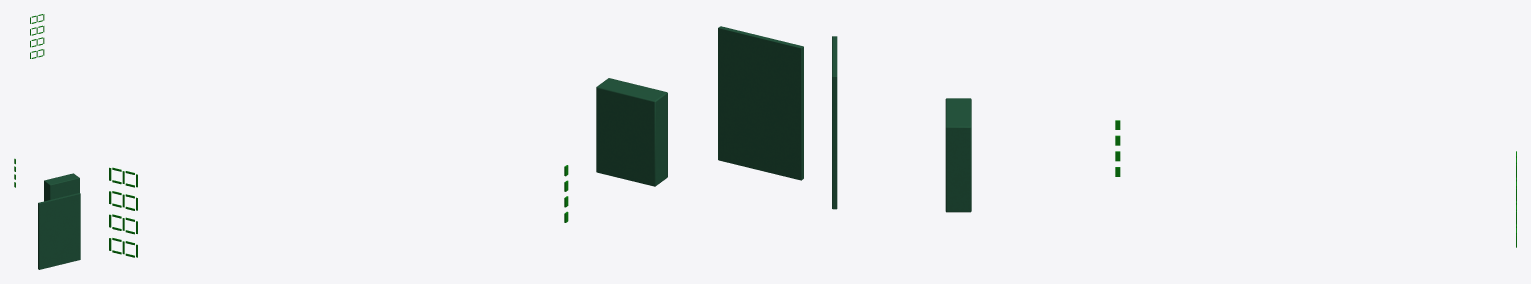
Rendered from base_link_pcb_green.obj.
3 views of the same model, side by side, from view 1: azimuth 30°, elevation 25°; view 2: azimuth 150°, elevation 25°; view 3: azimuth 270°, elevation 25° (orthographic). The views are drawn at different scales.
Visible parts, largest first — view 1: base_link__compute_board, base_link__converter; view 2: base_link__compute_board, base_link__converter; view 3: base_link__converter, base_link__compute_board.
Part boxes in pixels (x1=…): base_link__compute_board: x1=38, y1=193, x2=80, y2=269; base_link__converter: x1=44, y1=173, x2=79, y2=201; base_link__compute_board: x1=718, y1=26, x2=803, y2=180; base_link__converter: x1=596, y1=78, x2=667, y2=186; base_link__converter: x1=945, y1=98, x2=971, y2=212; base_link__compute_board: x1=832, y1=36, x2=837, y2=209.
Size of the model in its own units: 0.2366 by 0.1131 by 0.3979.
2 materials, 1 textured.
